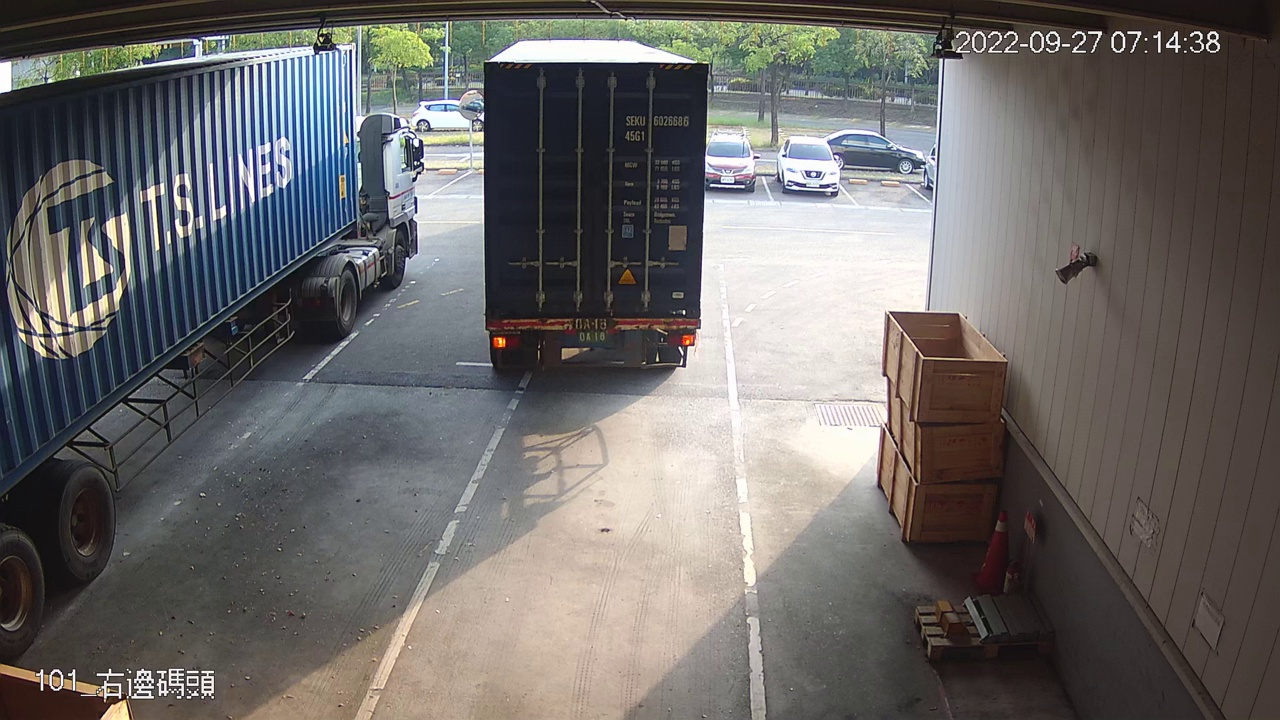container: (622, 108, 695, 147)
